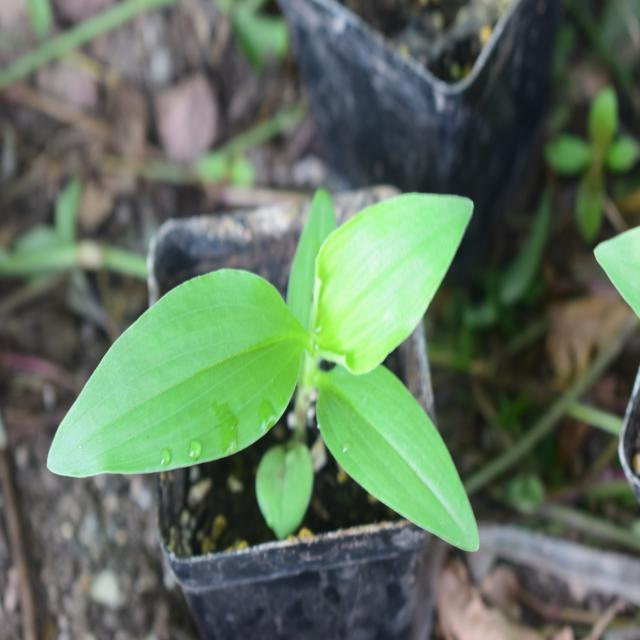Common Dayflower: (53, 161, 510, 564)
